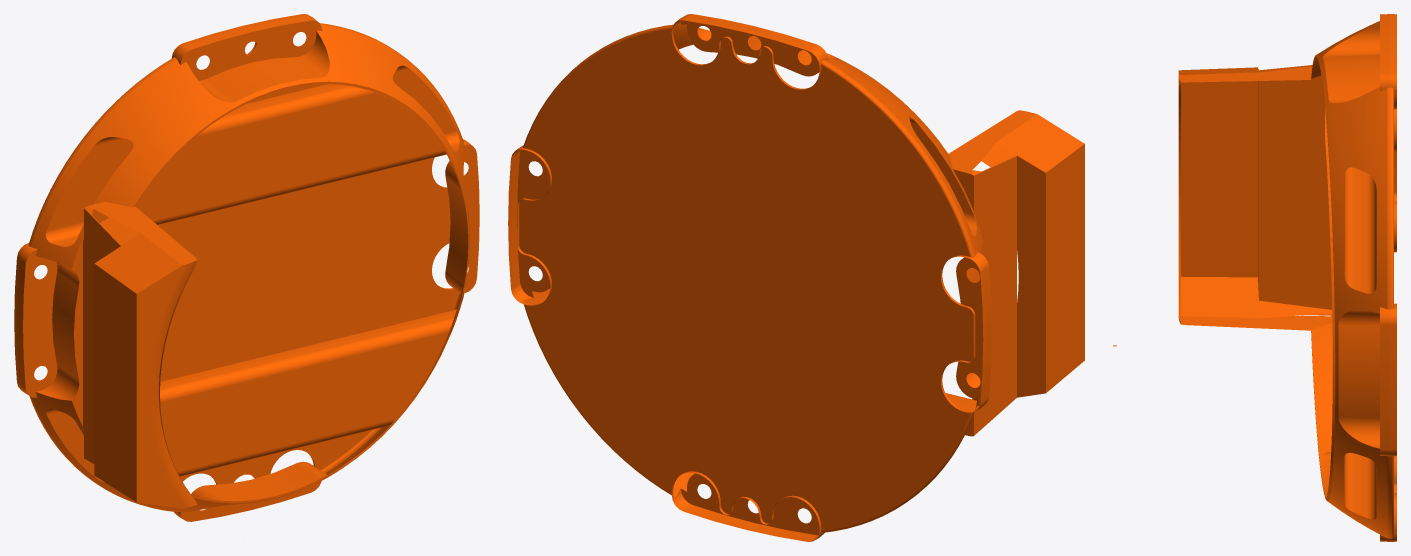
Rendered from Pfen3DE45D4A9opp_12_Pfen3DE45D4A9opp_Mesh_3.obj.
The picture shows the model from 3 angles, left to right: view 1: azimuth 30°, elevation 25°; view 2: azimuth 150°, elevation 25°; view 3: azimuth 270°, elevation 25°; orthographic projection. The views are drawn at different scales.
Visible parts, largest first — view 1: Mesh_Diffuse_5; view 2: Mesh_Diffuse_5; view 3: Mesh_Diffuse_5.
Part boxes in pixels (box(x1,y1,x2,y2)): Mesh_Diffuse_5: box(14, 14, 479, 521); Mesh_Diffuse_5: box(508, 14, 1084, 541); Mesh_Diffuse_5: box(1113, 14, 1396, 541).
Size of the model in its own units: 1.04 by 1.04 by 0.566.
